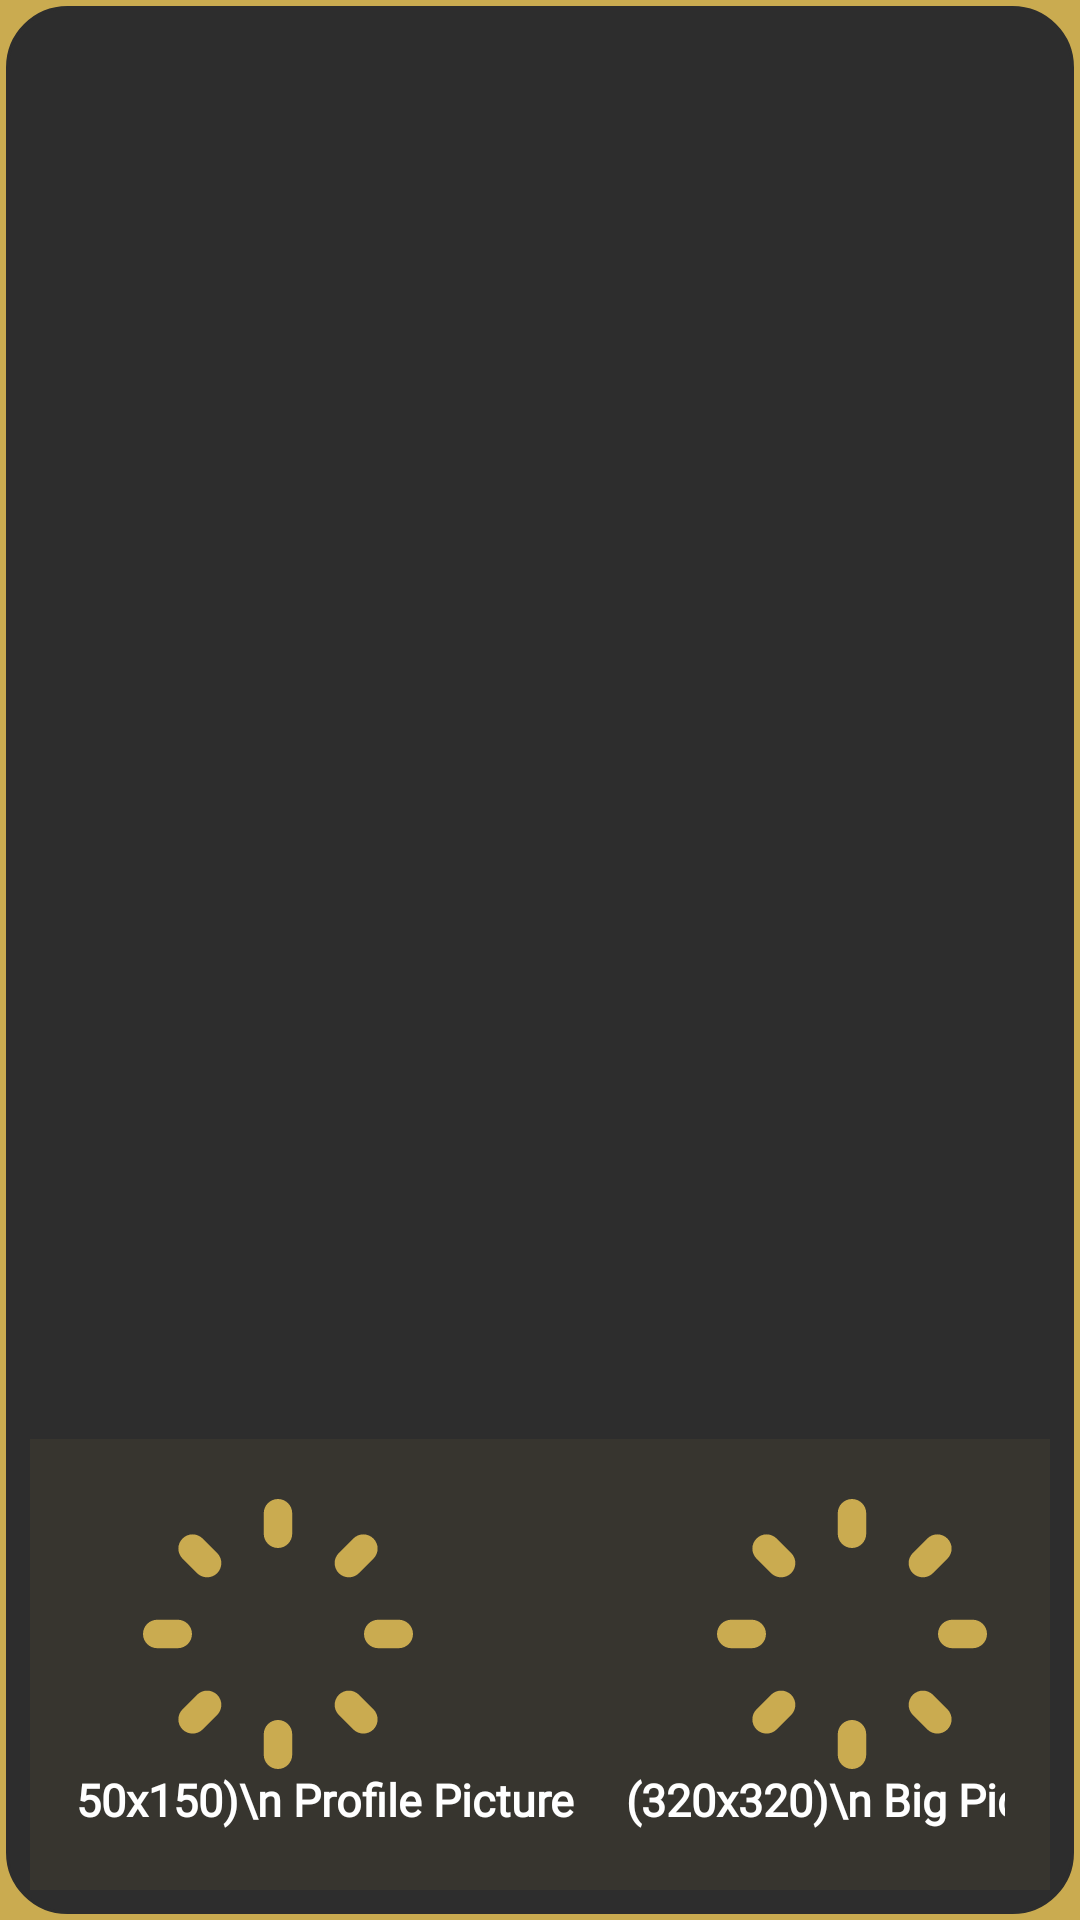

Icons on this 1080w x 1920h Android screen, each with its box as (x1, y1, x2, y2):
loading circle: (143, 1499, 413, 1769), (717, 1499, 987, 1769)
